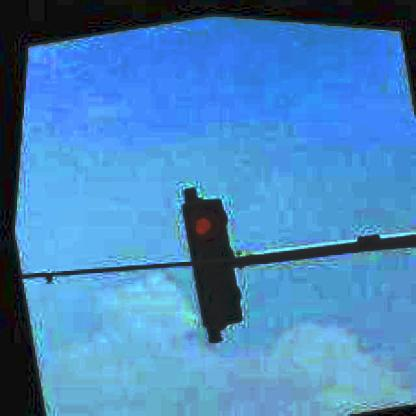Traffic Light -Red-: (168, 188, 250, 329)
